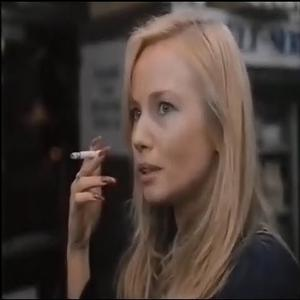cigarette: (65, 149, 105, 158)
